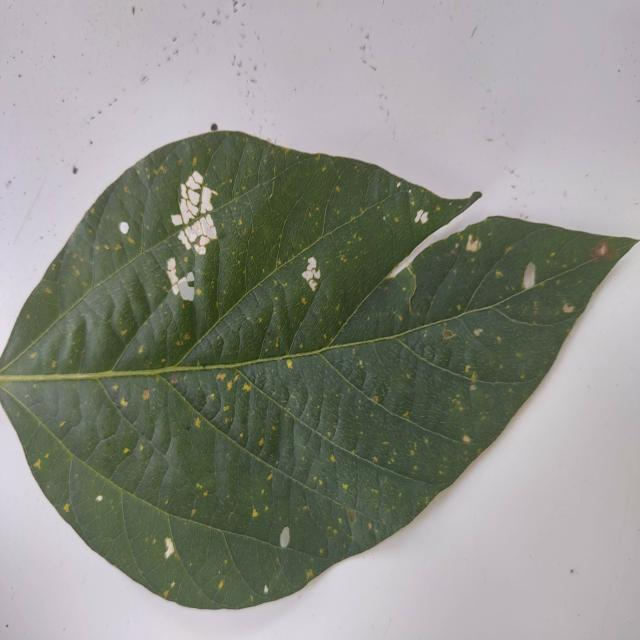Soybean: (0, 0, 637, 632)
downey_mildew: (221, 351, 409, 552), (195, 155, 332, 260), (178, 270, 315, 370), (81, 377, 179, 502), (341, 350, 462, 451), (109, 260, 203, 371), (474, 250, 624, 319), (229, 464, 322, 575), (276, 243, 370, 352), (147, 398, 221, 517), (185, 363, 265, 466), (391, 332, 512, 392), (65, 461, 133, 566), (63, 275, 138, 370), (11, 374, 90, 463), (114, 497, 181, 594), (4, 267, 70, 362), (529, 227, 628, 289), (175, 522, 243, 606), (344, 348, 411, 431), (313, 344, 377, 423), (216, 212, 259, 328), (311, 325, 446, 355), (5, 368, 213, 384), (196, 134, 237, 207)
